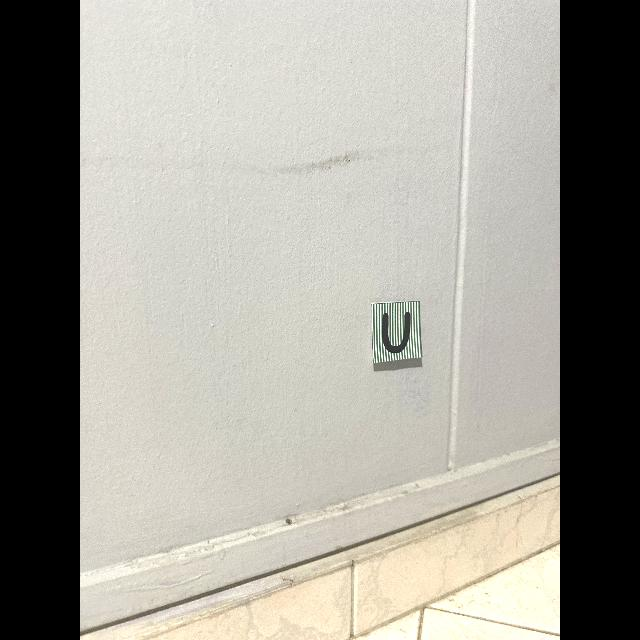U: (382, 312, 410, 353)
